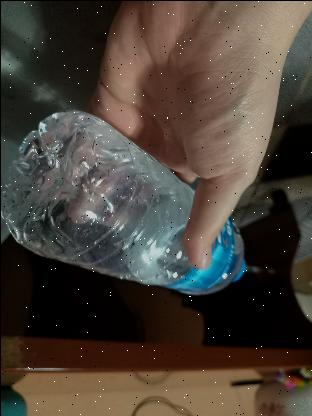Plastic Bottle: (0, 109, 254, 299)
